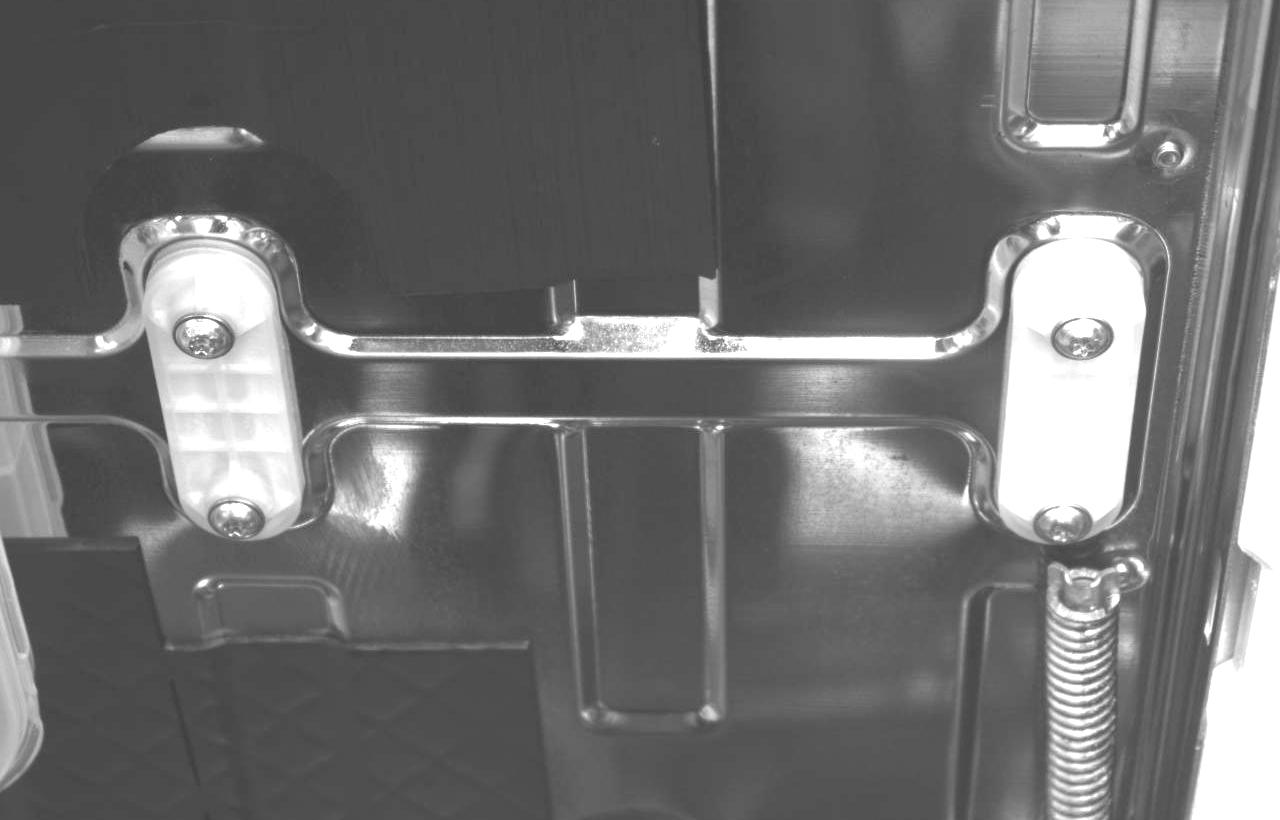vida-ok: (163, 305, 234, 372), (1050, 307, 1117, 374), (203, 488, 269, 547), (1031, 491, 1097, 549)
